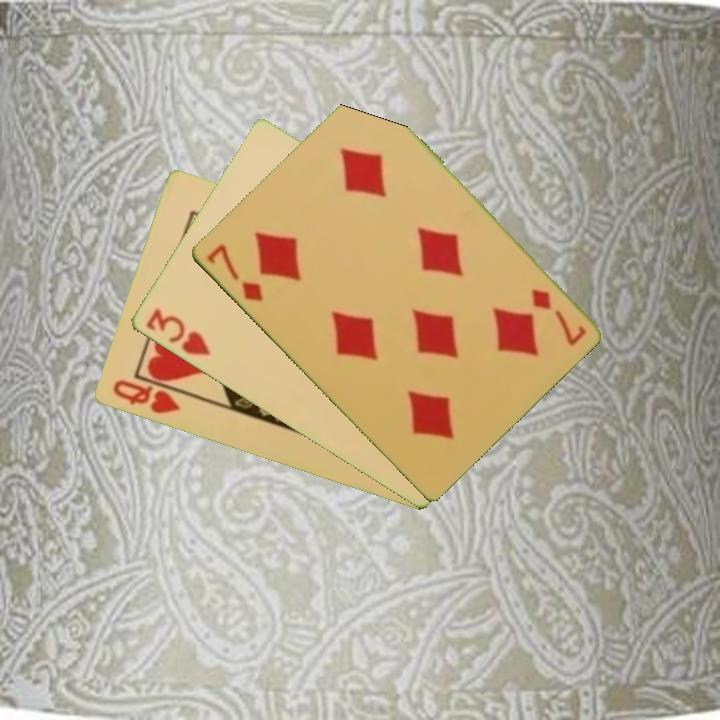3h: (141, 305, 213, 359)
7d: (202, 240, 266, 305), (527, 285, 589, 349)
Qh: (109, 376, 183, 417)
